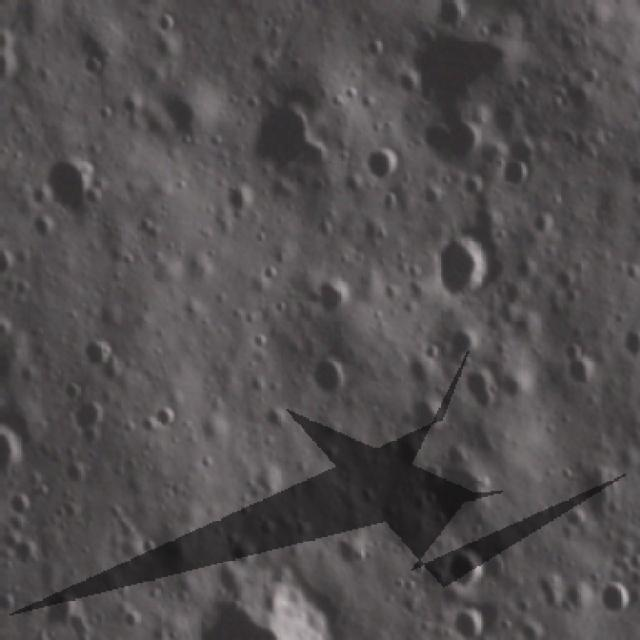crater: (402, 12, 520, 106), (192, 569, 338, 640), (242, 86, 331, 180), (428, 228, 501, 306), (419, 454, 495, 523), (148, 76, 212, 146), (37, 149, 103, 216), (417, 111, 481, 169), (31, 582, 84, 636), (61, 397, 108, 448), (302, 352, 350, 400), (406, 398, 451, 448), (454, 367, 500, 415), (209, 533, 263, 573), (438, 547, 482, 595), (306, 275, 354, 317), (0, 416, 26, 487), (436, 324, 482, 364), (447, 599, 488, 639), (591, 576, 631, 616), (74, 333, 112, 375), (561, 351, 599, 391), (365, 148, 403, 188), (8, 533, 46, 573), (0, 27, 23, 93), (326, 531, 365, 569), (607, 318, 640, 361), (554, 500, 592, 537), (148, 397, 185, 434), (218, 182, 252, 222), (74, 48, 108, 86), (434, 0, 468, 37), (496, 156, 530, 192), (525, 209, 561, 243), (28, 210, 55, 244), (151, 9, 178, 36), (257, 260, 283, 286), (134, 537, 160, 563)
